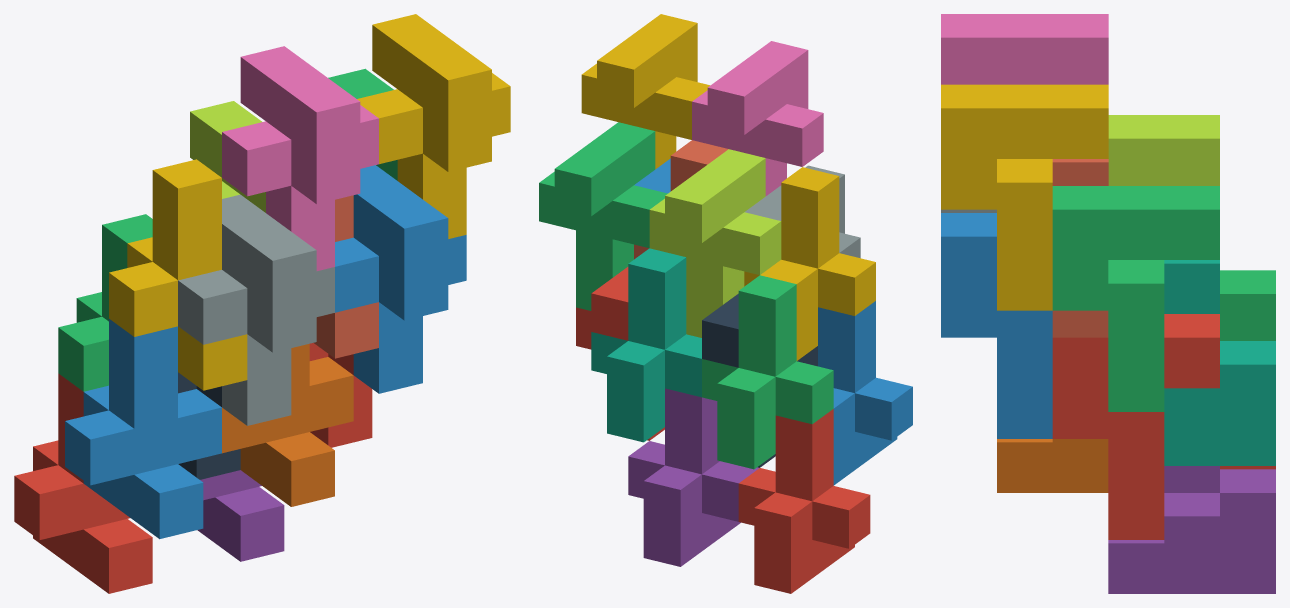
Rendered from tiling.obj.
3 views of the same model, side by side, from view 1: azimuth 30°, elevation 25°; view 2: azimuth 150°, elevation 25°; view 3: azimuth 270°, elevation 25° (orthographic). The views are drawn at different scales.
Visible parts, largest first — view 1: copy_1_domain_2, copy_2_domain_4, copy_2_domain_2, copy_2_domain_8, copy_2_domain_6, copy_1_domain_4, copy_1_domain_1, copy_1_domain_6, copy_1_domain_3, copy_1_domain_5, copy_1_domain_8, copy_2_domain_3 (+3 smaller); view 2: copy_1_domain_1, copy_1_domain_3, copy_2_domain_3, copy_1_domain_5, copy_1_domain_7, copy_2_domain_7, copy_2_domain_4, copy_2_domain_8, copy_1_domain_4, copy_1_domain_2, copy_2_domain_5, copy_2_domain_1 (+3 smaller); view 3: copy_2_domain_8, copy_2_domain_7, copy_2_domain_5, copy_1_domain_5, copy_1_domain_7, copy_2_domain_6, copy_2_domain_4, copy_2_domain_3, copy_1_domain_6, copy_1_domain_3, copy_1_domain_8.
Part boxes in pixels (left/top/right/bottom): copy_1_domain_2: left=65, top=319, right=221, bottom=539; copy_2_domain_4: left=222, top=46, right=378, bottom=270; copy_2_domain_2: left=178, top=194, right=334, bottom=425; copy_2_domain_8: left=357, top=14, right=510, bottom=238; copy_2_domain_6: left=335, top=165, right=466, bottom=393; copy_1_domain_4: left=109, top=159, right=247, bottom=390; copy_1_domain_1: left=14, top=373, right=152, bottom=593; copy_1_domain_6: left=222, top=343, right=353, bottom=506; copy_1_domain_3: left=58, top=214, right=152, bottom=391; copy_1_domain_5: left=197, top=470, right=284, bottom=561; copy_1_domain_8: left=313, top=195, right=378, bottom=358; copy_2_domain_3: left=190, top=101, right=265, bottom=212; copy_1_domain_1: left=738, top=409, right=870, bottom=593; copy_1_domain_3: left=702, top=275, right=833, bottom=469; copy_2_domain_3: left=649, top=149, right=781, bottom=337; copy_1_domain_5: left=628, top=388, right=759, bottom=566; copy_1_domain_7: left=591, top=248, right=701, bottom=442; copy_2_domain_7: left=539, top=122, right=667, bottom=310; copy_2_domain_4: left=692, top=41, right=823, bottom=195; copy_2_domain_8: left=581, top=14, right=709, bottom=169; copy_1_domain_4: left=744, top=167, right=875, bottom=360; copy_1_domain_2: left=818, top=301, right=912, bottom=485; copy_2_domain_5: left=576, top=267, right=664, bottom=440; copy_2_domain_1: left=702, top=293, right=817, bottom=467; copy_2_domain_8: left=941, top=84, right=1108, bottom=310; copy_2_domain_7: left=1052, top=186, right=1219, bottom=411; copy_2_domain_5: left=1052, top=314, right=1219, bottom=539; copy_1_domain_5: left=1108, top=466, right=1275, bottom=593; copy_1_domain_7: left=1164, top=260, right=1275, bottom=465; copy_2_domain_6: left=941, top=213, right=1052, bottom=438; copy_2_domain_4: left=941, top=14, right=1108, bottom=84; copy_2_domain_3: left=1108, top=115, right=1219, bottom=185; copy_1_domain_6: left=997, top=439, right=1108, bottom=492; copy_1_domain_3: left=1220, top=270, right=1275, bottom=340; copy_1_domain_8: left=1052, top=159, right=1108, bottom=337.
Bounding box in the file's own units: 9 × 11 × 6.
